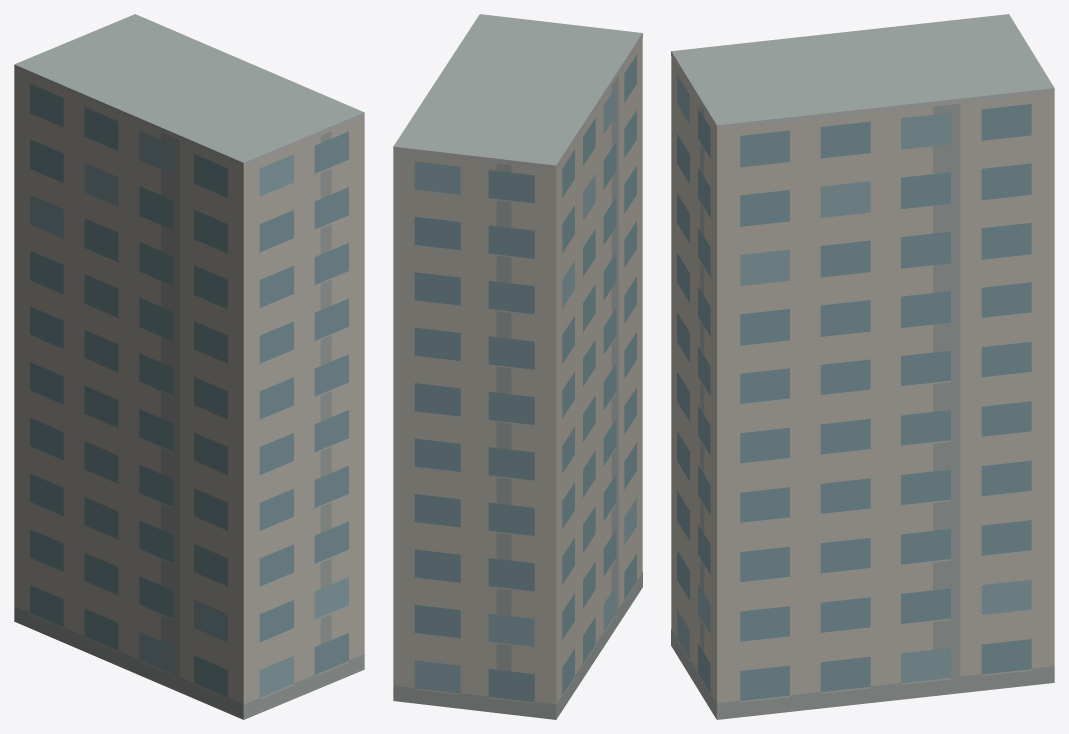
Rendered from residential-88e7d5d9-0c18-497b-bc28-e2b204e9af03.glb.
3 views of the same model, side by side, from view 1: azimuth 30°, elevation 25°; view 2: azimuth 150°, elevation 25°; view 3: azimuth 270°, elevation 25° (orthographic). The views are drawn at different scales.
Parts seen in each view (by area): view 1: residential-88e7d5d9-0c18-497b-bc28-e2b204e9af03.tmp; view 2: residential-88e7d5d9-0c18-497b-bc28-e2b204e9af03.tmp; view 3: residential-88e7d5d9-0c18-497b-bc28-e2b204e9af03.tmp.
Part boxes in pixels (left/top/right/bottom): residential-88e7d5d9-0c18-497b-bc28-e2b204e9af03.tmp: left=14, top=14, right=364, bottom=719; residential-88e7d5d9-0c18-497b-bc28-e2b204e9af03.tmp: left=393, top=14, right=642, bottom=719; residential-88e7d5d9-0c18-497b-bc28-e2b204e9af03.tmp: left=671, top=14, right=1054, bottom=719.
Size of the model in its own units: 11.25 by 28 by 16.38.
